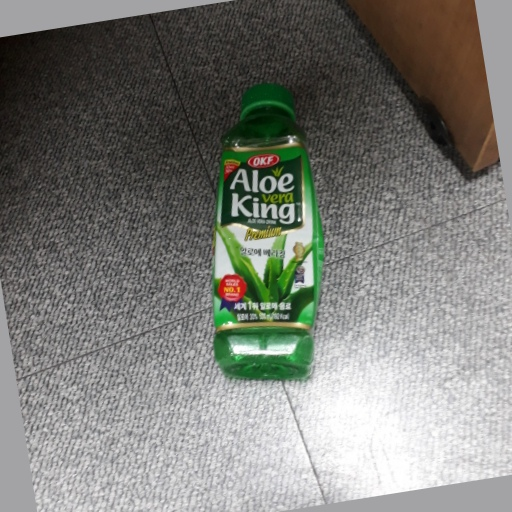Plastic_0: (213, 83, 327, 383)
